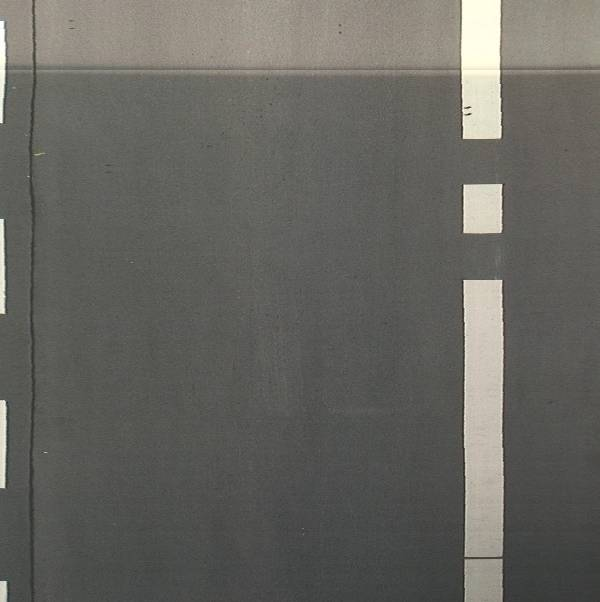road_damage: (16, 11, 40, 601), (42, 62, 453, 85)
